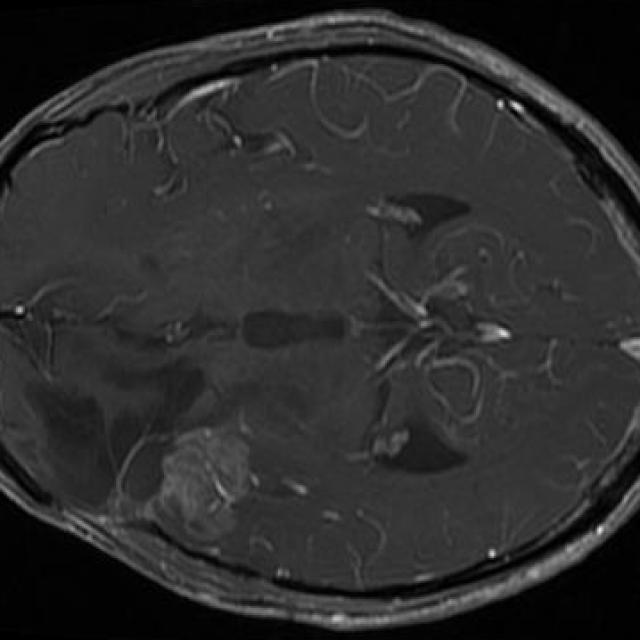glioma: (25, 357, 250, 544)
